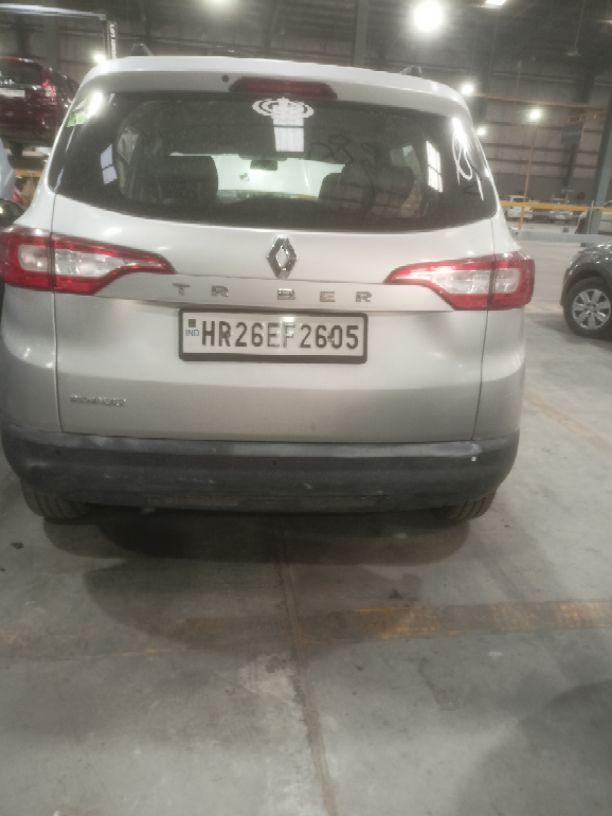license_plate: (177, 308, 368, 363)
